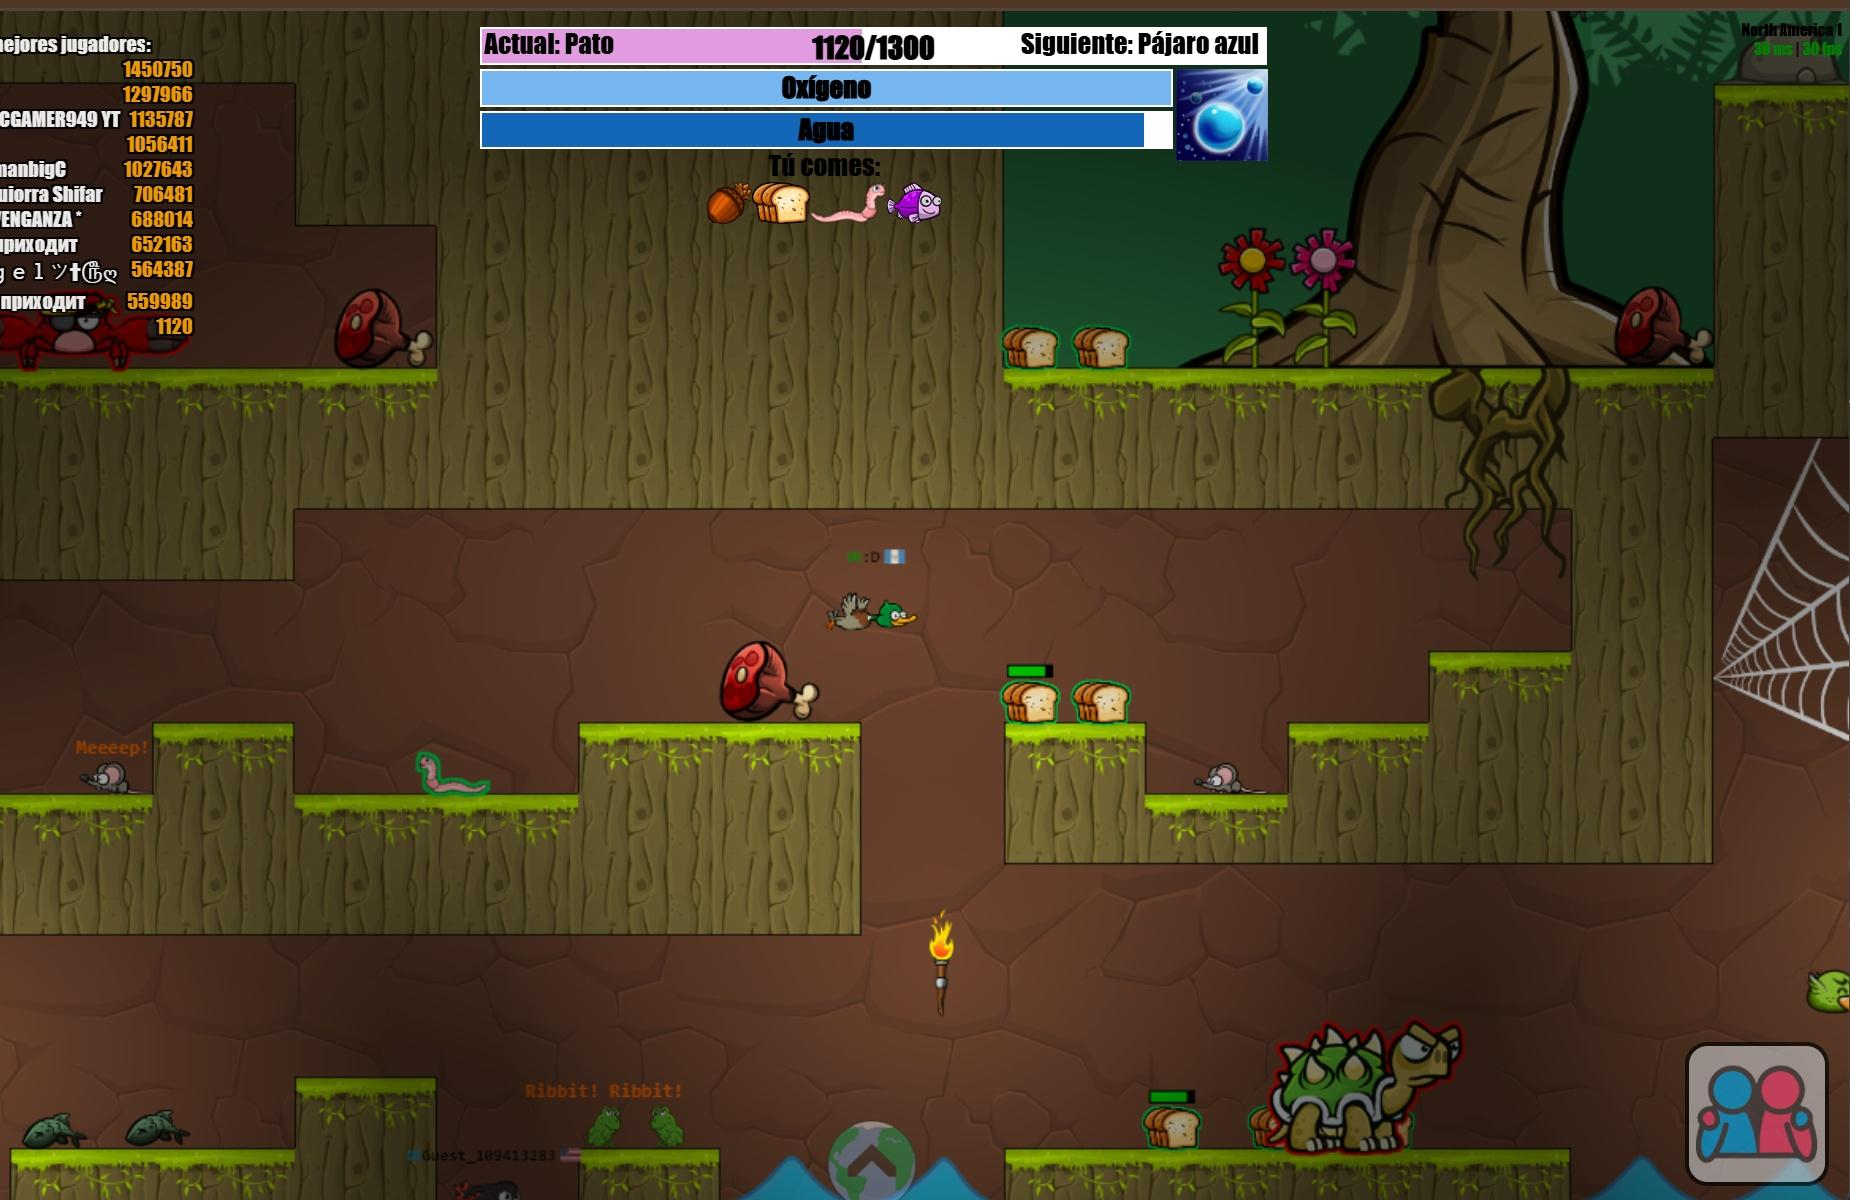antorcha: (925, 914, 960, 967)
avellana: (704, 179, 752, 228)
cangrejo: (0, 289, 191, 372)
carne: (1610, 284, 1712, 373), (717, 636, 816, 723), (332, 286, 426, 371)
flor: (1292, 224, 1359, 295), (1218, 227, 1288, 293)
gusano: (417, 747, 494, 796), (810, 181, 885, 222)
mascota: (1808, 971, 1850, 1011)
mirio: (452, 1172, 525, 1200)
pan: (999, 320, 1061, 369), (1069, 678, 1131, 723), (1073, 324, 1133, 369), (1002, 677, 1057, 724), (1145, 1106, 1203, 1149), (754, 178, 806, 225), (1249, 1104, 1281, 1147)
pato: (824, 592, 921, 630)
pescado: (124, 1106, 186, 1143), (23, 1114, 85, 1147)
pez: (890, 181, 943, 227)
raiz: (1431, 363, 1568, 582)
rana: (647, 1103, 686, 1149), (585, 1104, 620, 1145)
raton: (80, 759, 135, 793), (1192, 760, 1247, 793)
tela: (1717, 440, 1850, 750)
tortuga: (1263, 1022, 1466, 1154)
vida: (1005, 659, 1054, 677)
